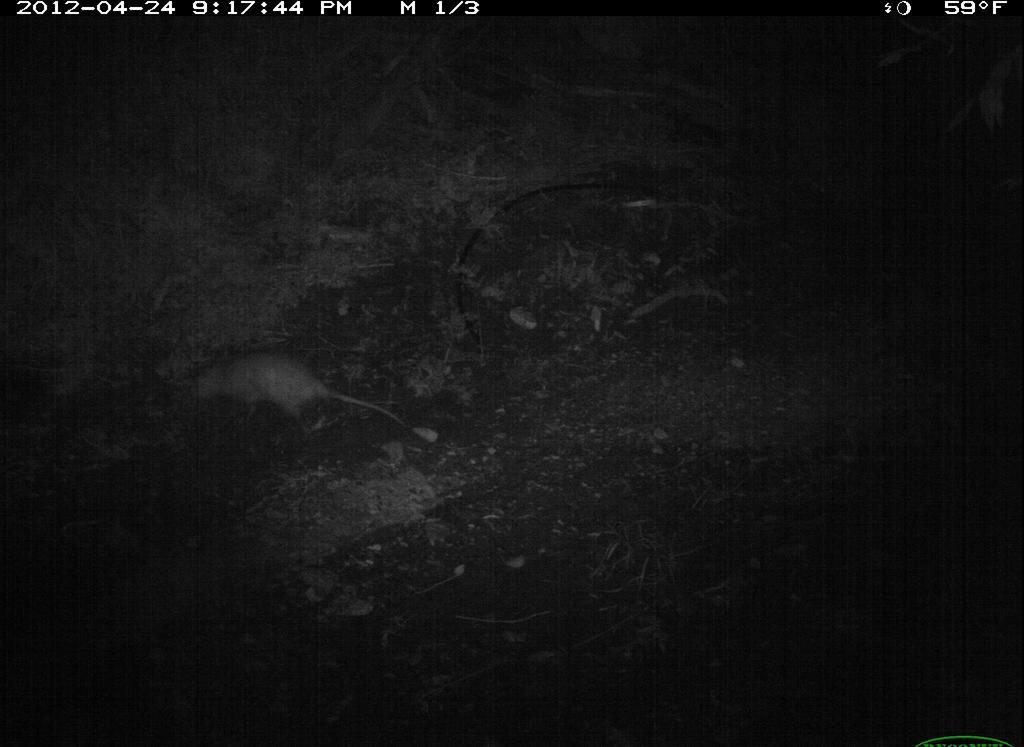opossum: (175, 336, 417, 461)
